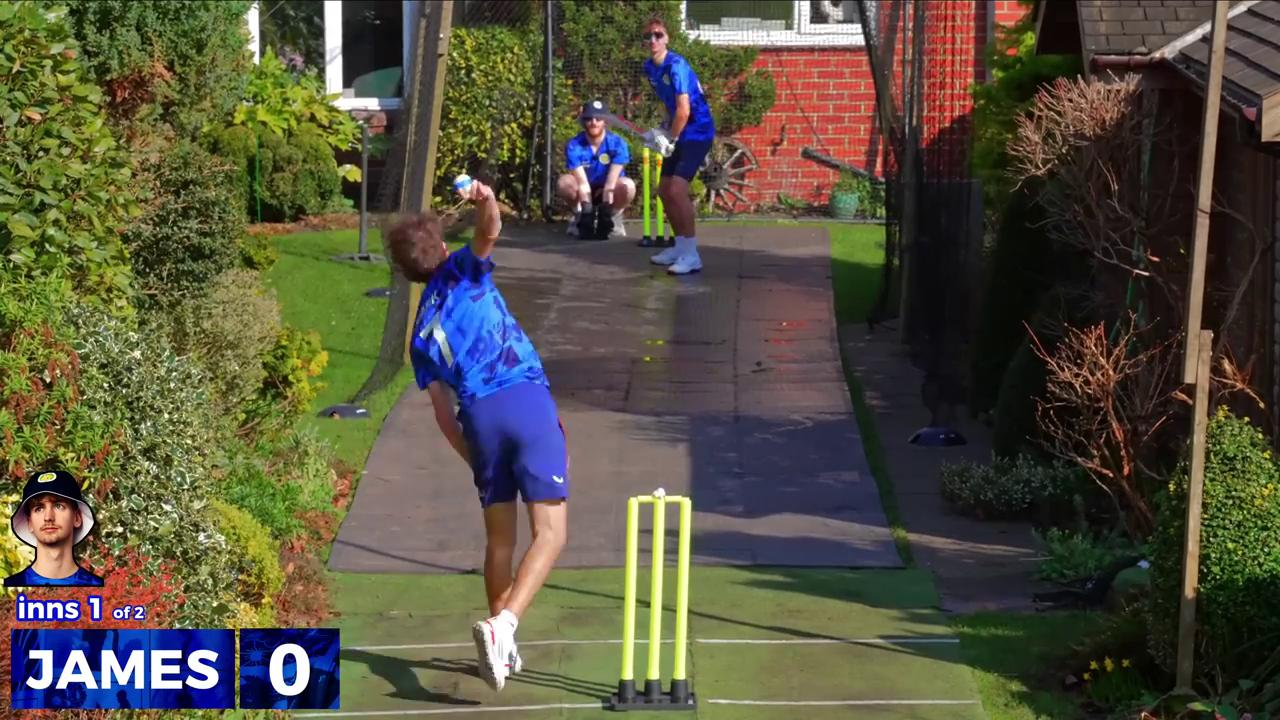ball: (443, 167, 474, 201)
